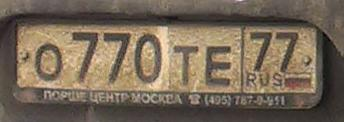license-plateSW: (14, 19, 319, 97)
